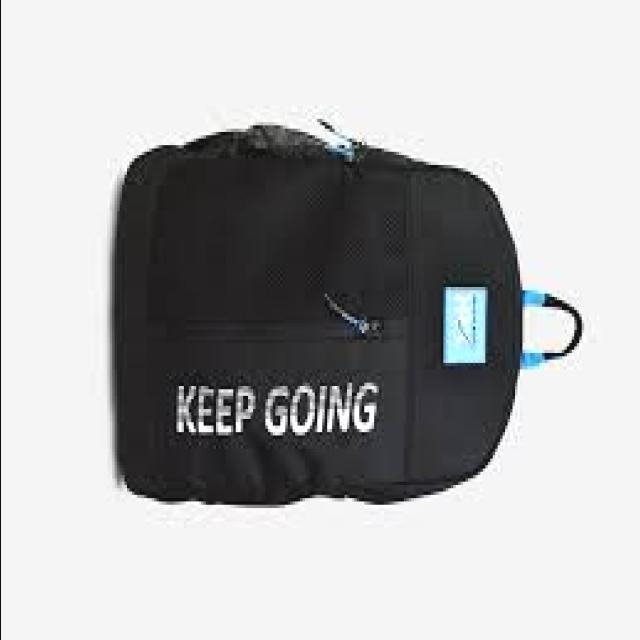backpack: (115, 120, 585, 510)
